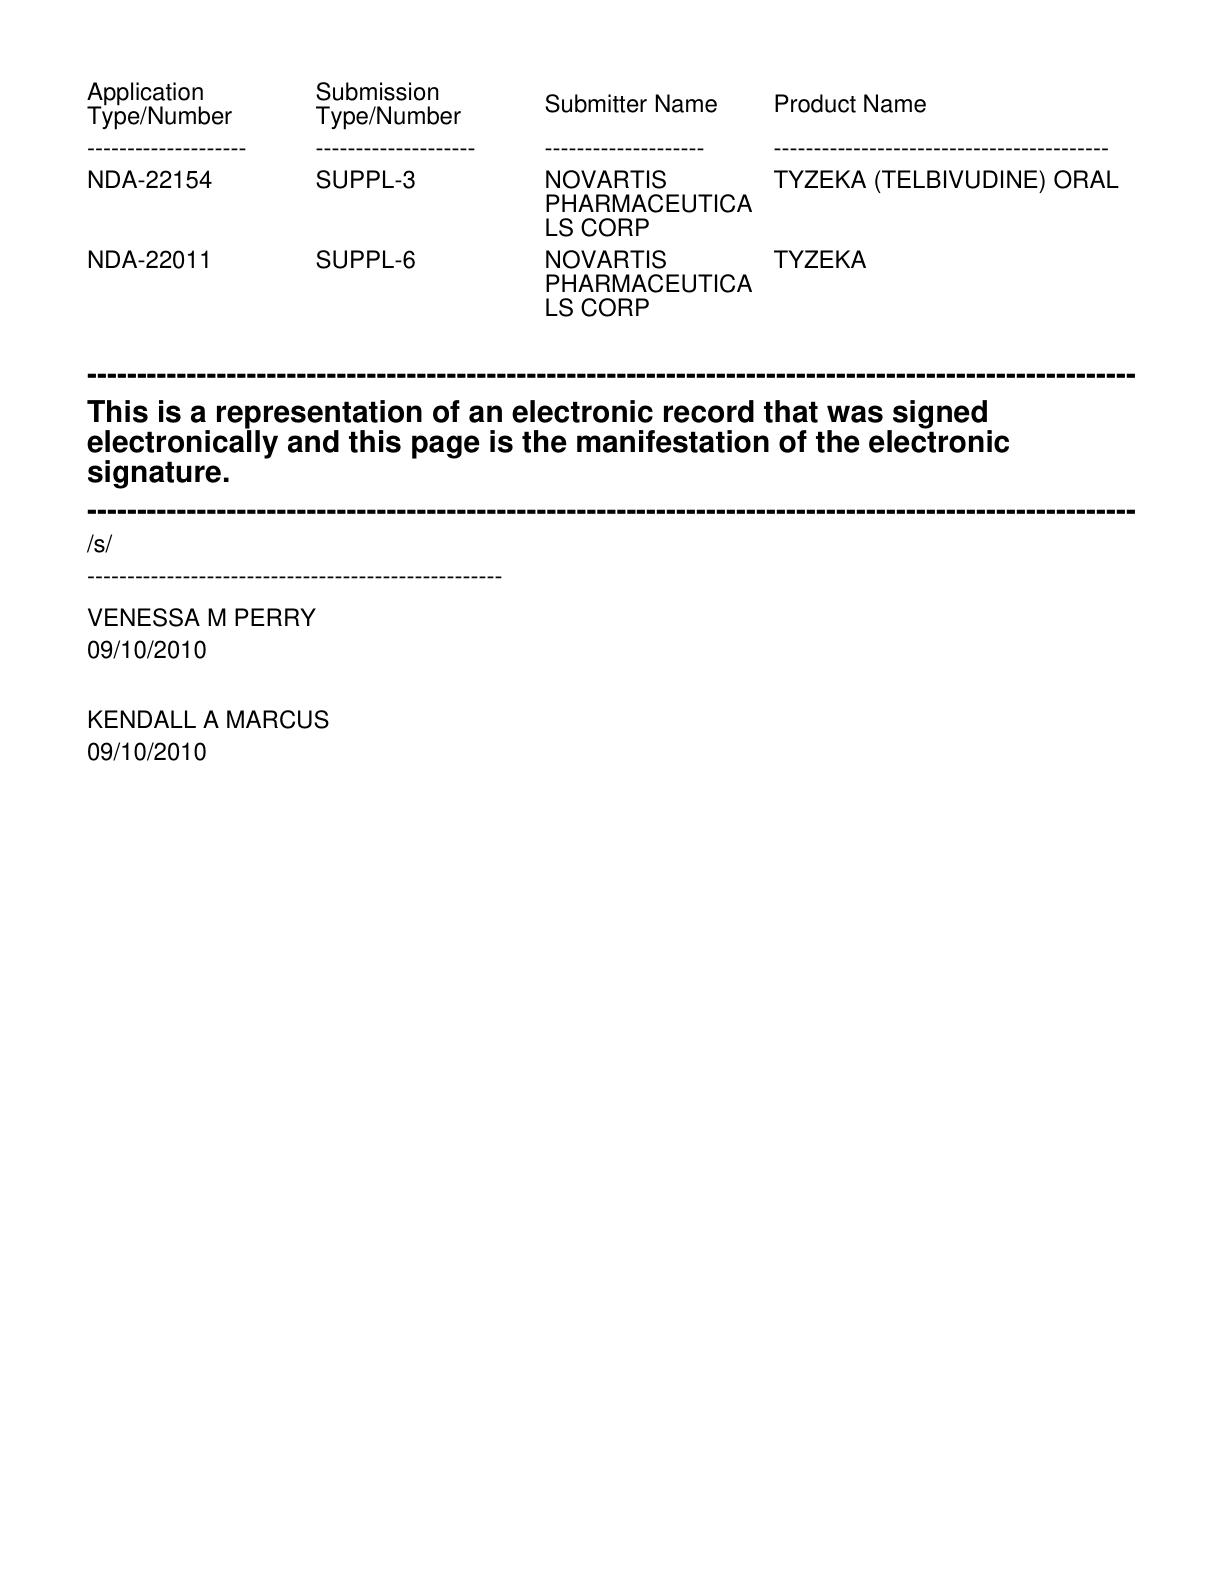nolines: (87, 75, 1119, 319)
